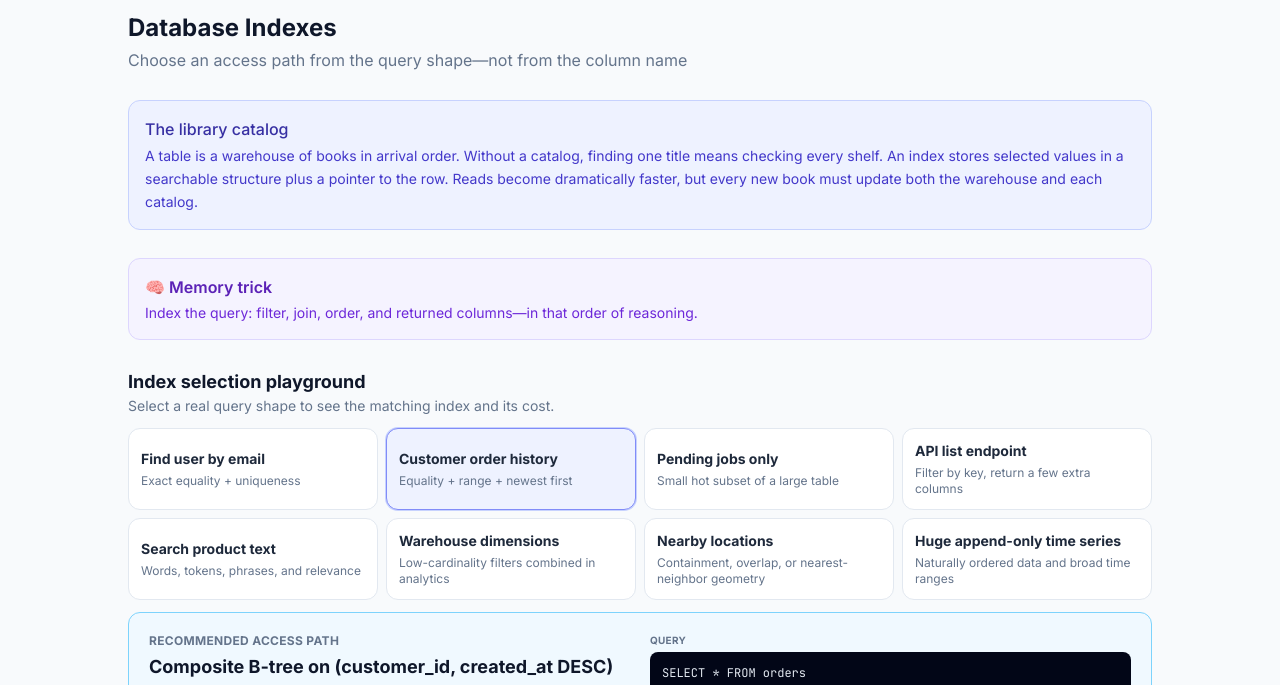
it: database index selection › recommends an index based on the selected query shape
This screenshot has width=1280, height=685.
Expected: the heading "Composite B-tree on (customer_id, created_at DESC)" is shown, [149,653,630,681]
Click the tab "Search product text Words, tokens, phrases, and relevance". click: (253, 559)
box: [128,518,378,600]
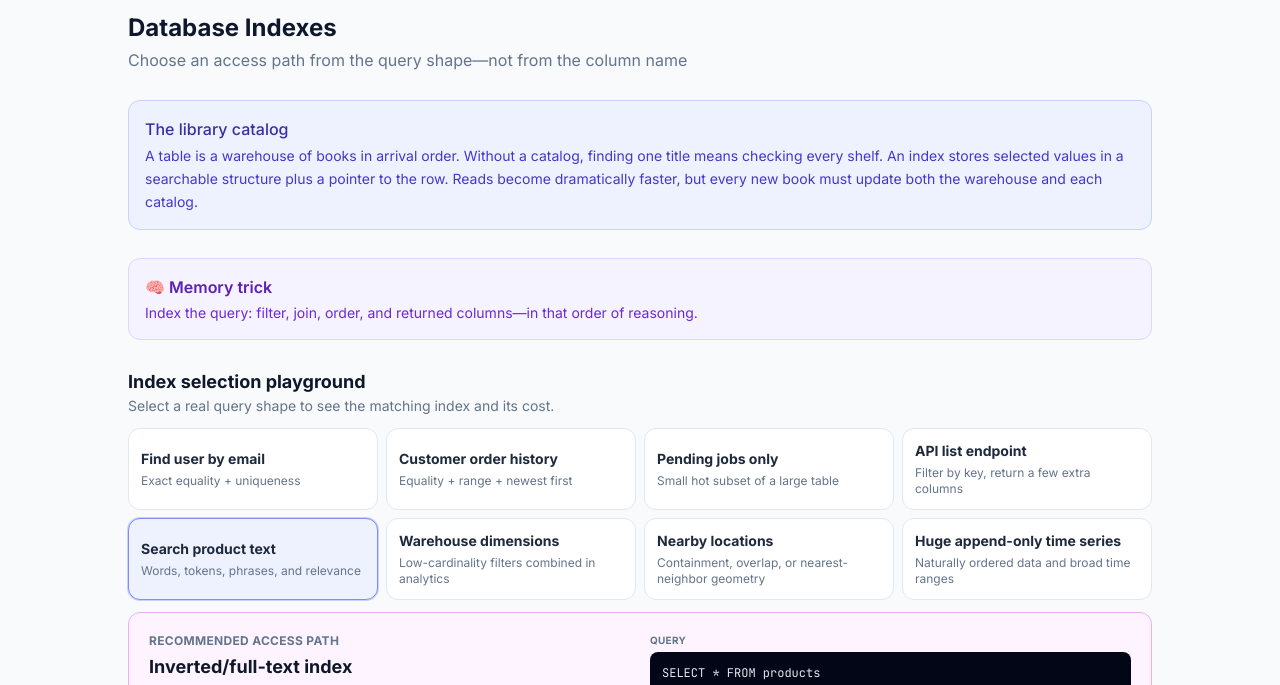
Now the heading "Inverted/full-text index" is shown, box [149,656,352,677]
